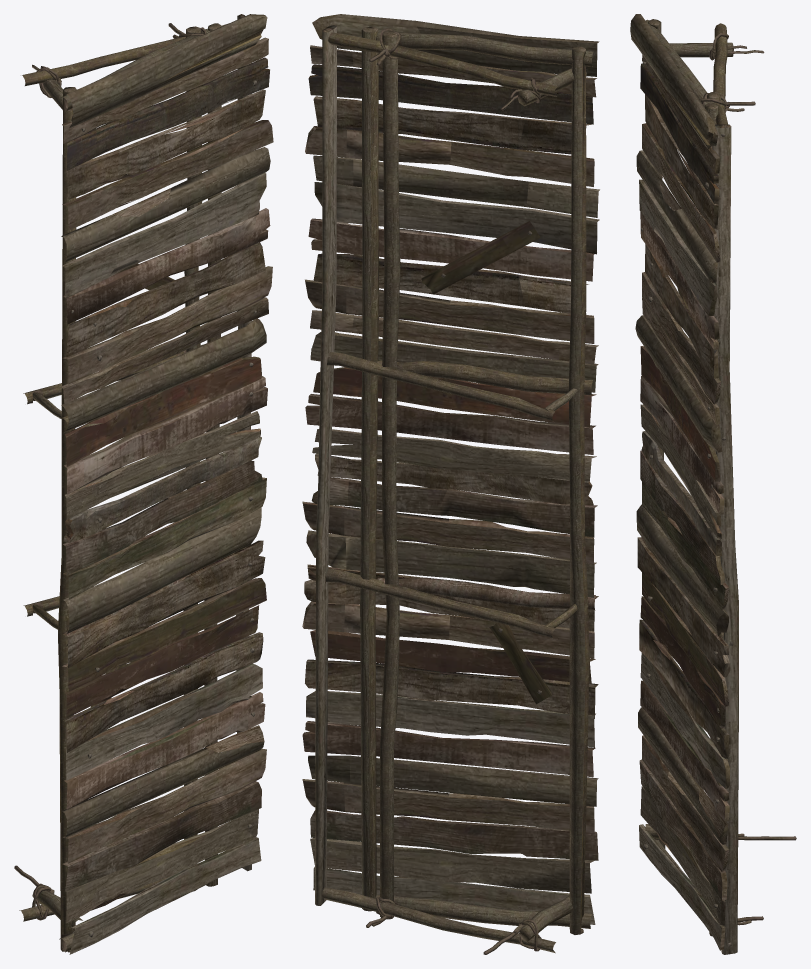
The model's file is GEN_PRO_Awning_9m_01A_LOD0-transformed.glb.
3 renders of one model, left to right at view 1: azimuth 30°, elevation 25°; view 2: azimuth 150°, elevation 25°; view 3: azimuth 270°, elevation 25°, orthographic. The views are drawn at different scales.
Parts seen in each view (by area): view 1: GEN_PRO_Awning_9m_01A_LOD0; view 2: GEN_PRO_Awning_9m_01A_LOD0; view 3: GEN_PRO_Awning_9m_01A_LOD0.
Part boxes in pixels (x1,y1,x2,y2): GEN_PRO_Awning_9m_01A_LOD0: (14,14,273,954); GEN_PRO_Awning_9m_01A_LOD0: (302,14,599,954); GEN_PRO_Awning_9m_01A_LOD0: (630,14,796,954).
Bounding box in the file's own units: 0.0272 × 0.0899 × 0.0162.
4 materials, 4 textured.
